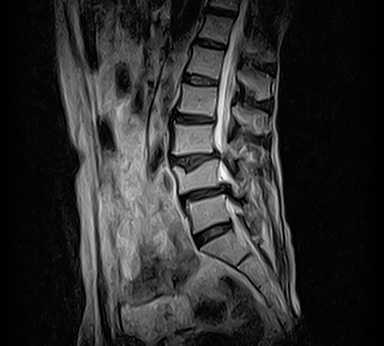L1,v2: (184, 46, 229, 71)
L1-L2,v1: (178, 68, 223, 93)
L2,v2: (174, 85, 219, 110)
L2-L3,v2: (171, 105, 216, 130)
L3,v2: (169, 125, 214, 150)
L3-L4,v3: (172, 144, 217, 169)
L3-L4,v5: (172, 144, 217, 169)
L4,v2: (175, 165, 220, 190)
L4-L5,v3: (175, 183, 220, 208)
L5,v2: (182, 197, 227, 222)
L5-S1,v1: (186, 219, 231, 244)
T12-L1,v1: (189, 30, 234, 55)
